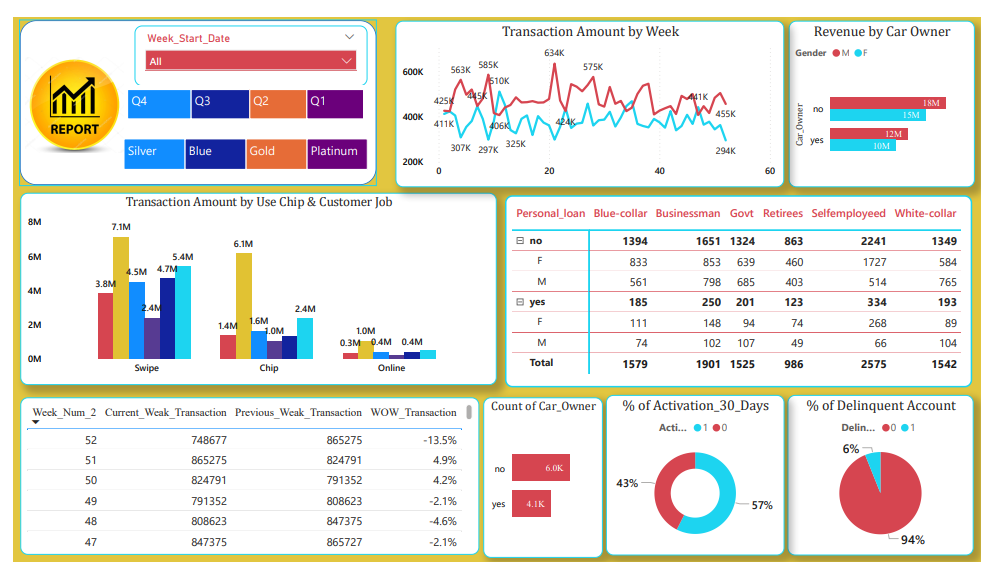

Layout of this report page (visuals, bound fields, positions):
{"tool":"powerbi","page":{"name":"Details","canvas":[1280,720],"ordinal":2},"visuals":[{"type":"shape","box":[8.1,3.3,473.5,219.7],"z":0},{"type":"pieChart","title":"% of Delinquent Account","fields":{"Category":["credit_card.Delinquent_Acc"],"Y":["Divide(CountNonNull(credit_card.Delinquent_Acc), ScopedEval(CountNonNull(credit_card.Delinquent_Acc), []))"]},"box":[1025.1,499.5,245.7,211.5],"z":1000},{"type":"clusteredColumnChart","title":"Transaction Amount by Use Chip & Customer Job","fields":{"Category":["credit_card.Use Chip"],"Y":["Sum(credit_card.Total_Trans_Amt)"],"Series":["customer.Customer_Job"]},"box":[9.8,232.7,629.7,253.8],"z":2000},{"type":"barChart","title":"Count of Car_Owner","fields":{"Category":["customer.Car_Owner"],"Y":["CountNonNull(customer.Car_Owner)"]},"box":[621.6,502.8,157.8,211.5],"z":3000},{"type":"clusteredBarChart","title":"Revenue by Car Owner ","fields":{"Category":["customer.Car_Owner"],"Y":["Sum(credit_card.Revenue)"],"Series":["customer.Gender"]},"box":[1026.7,4.9,245.7,219.7],"z":4000},{"type":"lineChart","title":"Transaction Amount by Week","fields":{"Category":["credit_card.Week_Num_2","credit_card.Week_Start_Date.Variation.Date Hierarchy.Month","credit_card.Week_Start_Date.Variation.Date Hierarchy.Day"],"Y":["Sum(credit_card.Total_Trans_Amt)"],"Series":["customer.Gender"]},"box":[506,4.9,514.2,219.7],"z":5000},{"type":"donutChart","title":"% of Activation_30_Days","fields":{"Category":["credit_card.Activation_30_Days"],"Y":["Divide(CountNonNull(credit_card.Activation_30_Days), ScopedEval(CountNonNull(credit_card.Activation_30_Days), []))"]},"box":[784.3,499.5,235.9,211.5],"z":6000},{"type":"pivotTable","fields":{"Rows":["customer.Personal_loan","customer.Gender"],"Values":["CountNonNull(customer.Personal_loan)"],"Columns":["customer.Customer_Job"]},"box":[650.9,235.9,618.3,253.8],"z":7000},{"type":"tableEx","fields":{"Values":["credit_card.Week_Num_2","New Measure.Current_Weak_Transaction","New Measure.Previous_Weak_Transaction","New Measure.WOW_Transaction"]},"box":[9.8,502.8,606.9,208.3],"z":8000},{"type":"treemap","fields":{"Group":["credit_card.Card_Category"],"Values":["Avg(credit_card.Client_Num)"]},"box":[141.6,156.2,331.9,50.4],"z":9000},{"type":"slicer","fields":{"Values":["credit_card.Week_Start_Date"]},"box":[161.1,11.4,307.5,79.7],"z":10000},{"type":"treemap","fields":{"Group":["credit_card.Qtr"],"Values":["Avg(credit_card.Client_Num)"]},"box":[146.4,91.1,322.2,48.8],"z":11000},{"type":"image","box":[11.4,32.5,139.9,169.2],"z":12000}]}

Visuals, with their boxes in screenshot pixels (x1, y1, x2, y2):
shape: 9, 15, 372, 184
"% of Delinquent Account" pieChart: 788, 396, 977, 558
"Transaction Amount by Use Chip & Customer Job" clusteredColumnChart: 10, 191, 493, 386
"Count of Car_Owner" barChart: 479, 398, 600, 561
"Revenue by Car Owner " clusteredBarChart: 790, 17, 978, 185
"Transaction Amount by Week" lineChart: 390, 17, 785, 185
"% of Activation_30_Days" donutChart: 604, 396, 785, 558
pivotTable - customer.Personal_loan x customer.Gender: 502, 194, 976, 388
tableEx - credit_card.Week_Num_2 x New Measure.Current_Weak_Transaction: 10, 398, 475, 558
treemap - credit_card.Card_Category x Avg(credit_card.Client_Num): 111, 133, 366, 171
slicer - credit_card.Week_Start_Date: 126, 22, 362, 83
treemap - credit_card.Qtr x Avg(credit_card.Client_Num): 115, 83, 362, 120
image: 11, 38, 119, 168
